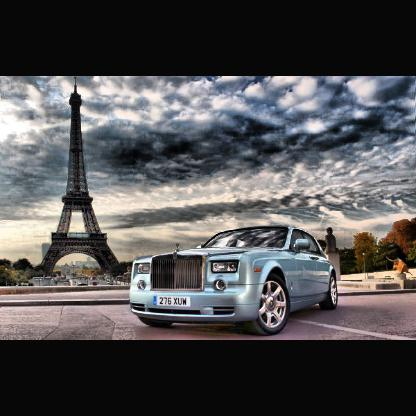Rolls-Royce Phantom Sedan 2012: (132, 226, 339, 335)
